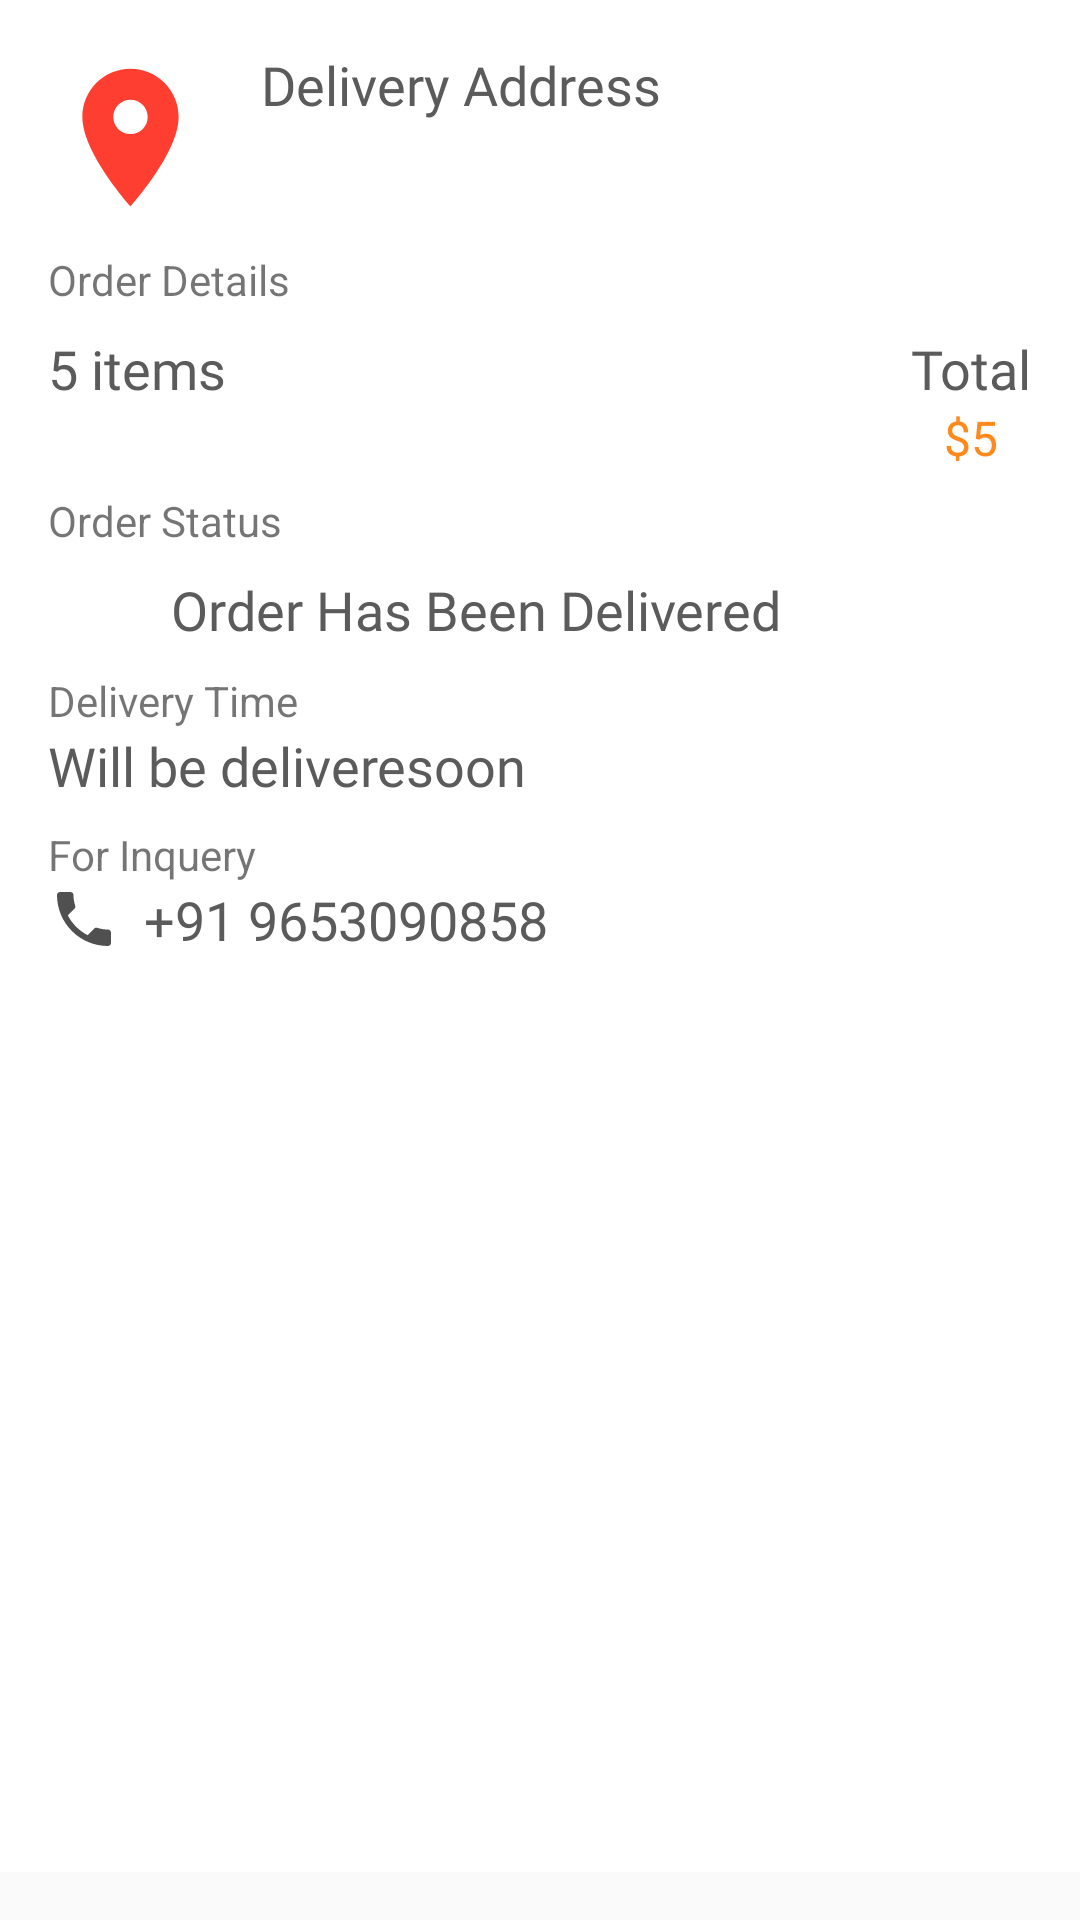

Icons on this 1080w x 1920h Android screen, each with the point to tap as [x,y]:
call: [84,919]
location on: [130,137]
